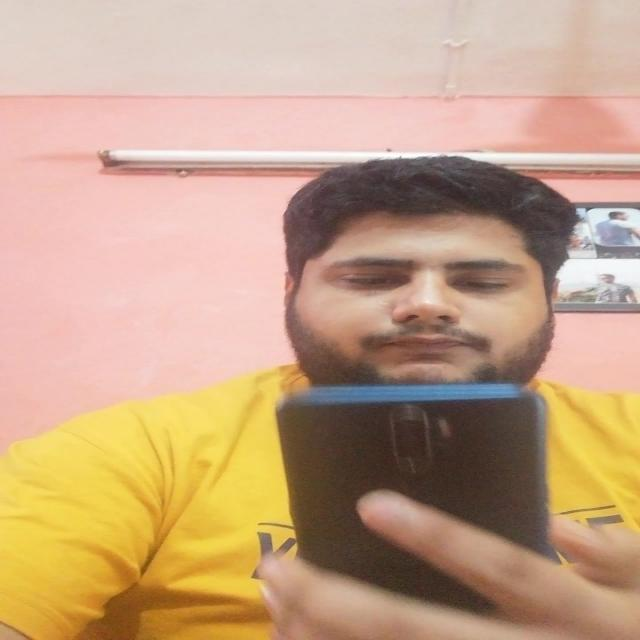Phone: (270, 382, 554, 618)
